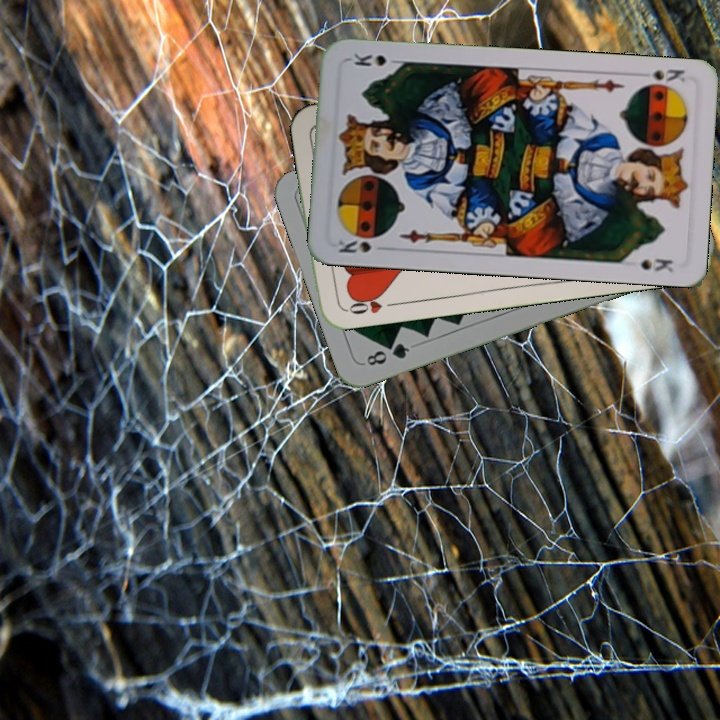G8: (362, 339, 413, 369)
HO: (339, 289, 399, 317)
SK: (332, 236, 391, 256), (633, 65, 688, 85)
